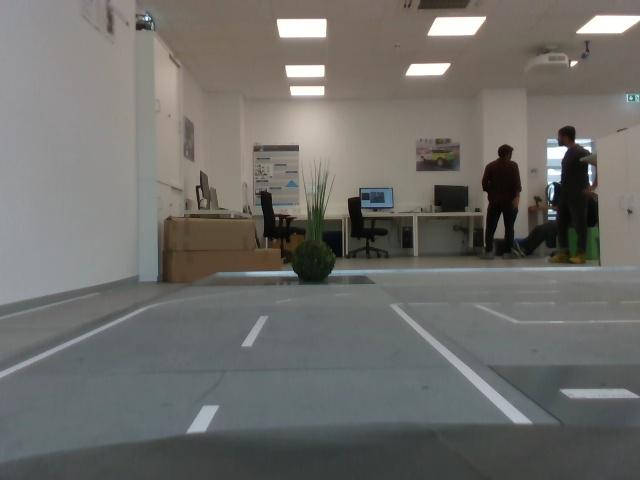potted plant: (299, 167, 334, 235), (295, 240, 335, 285)
